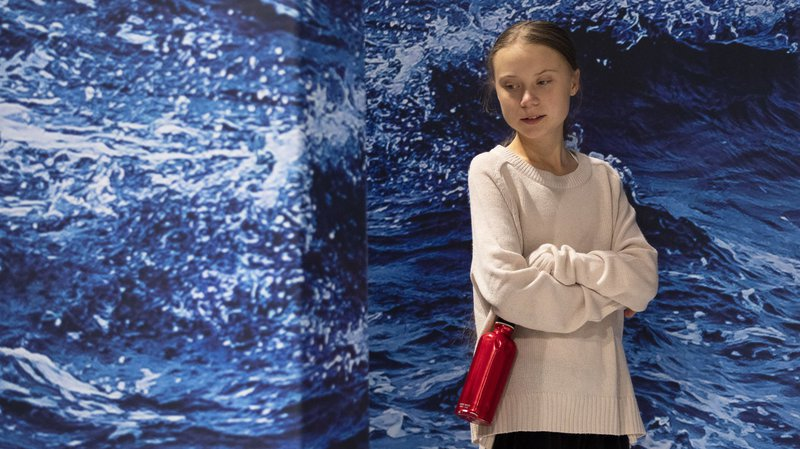noMask: (478, 15, 591, 158)
